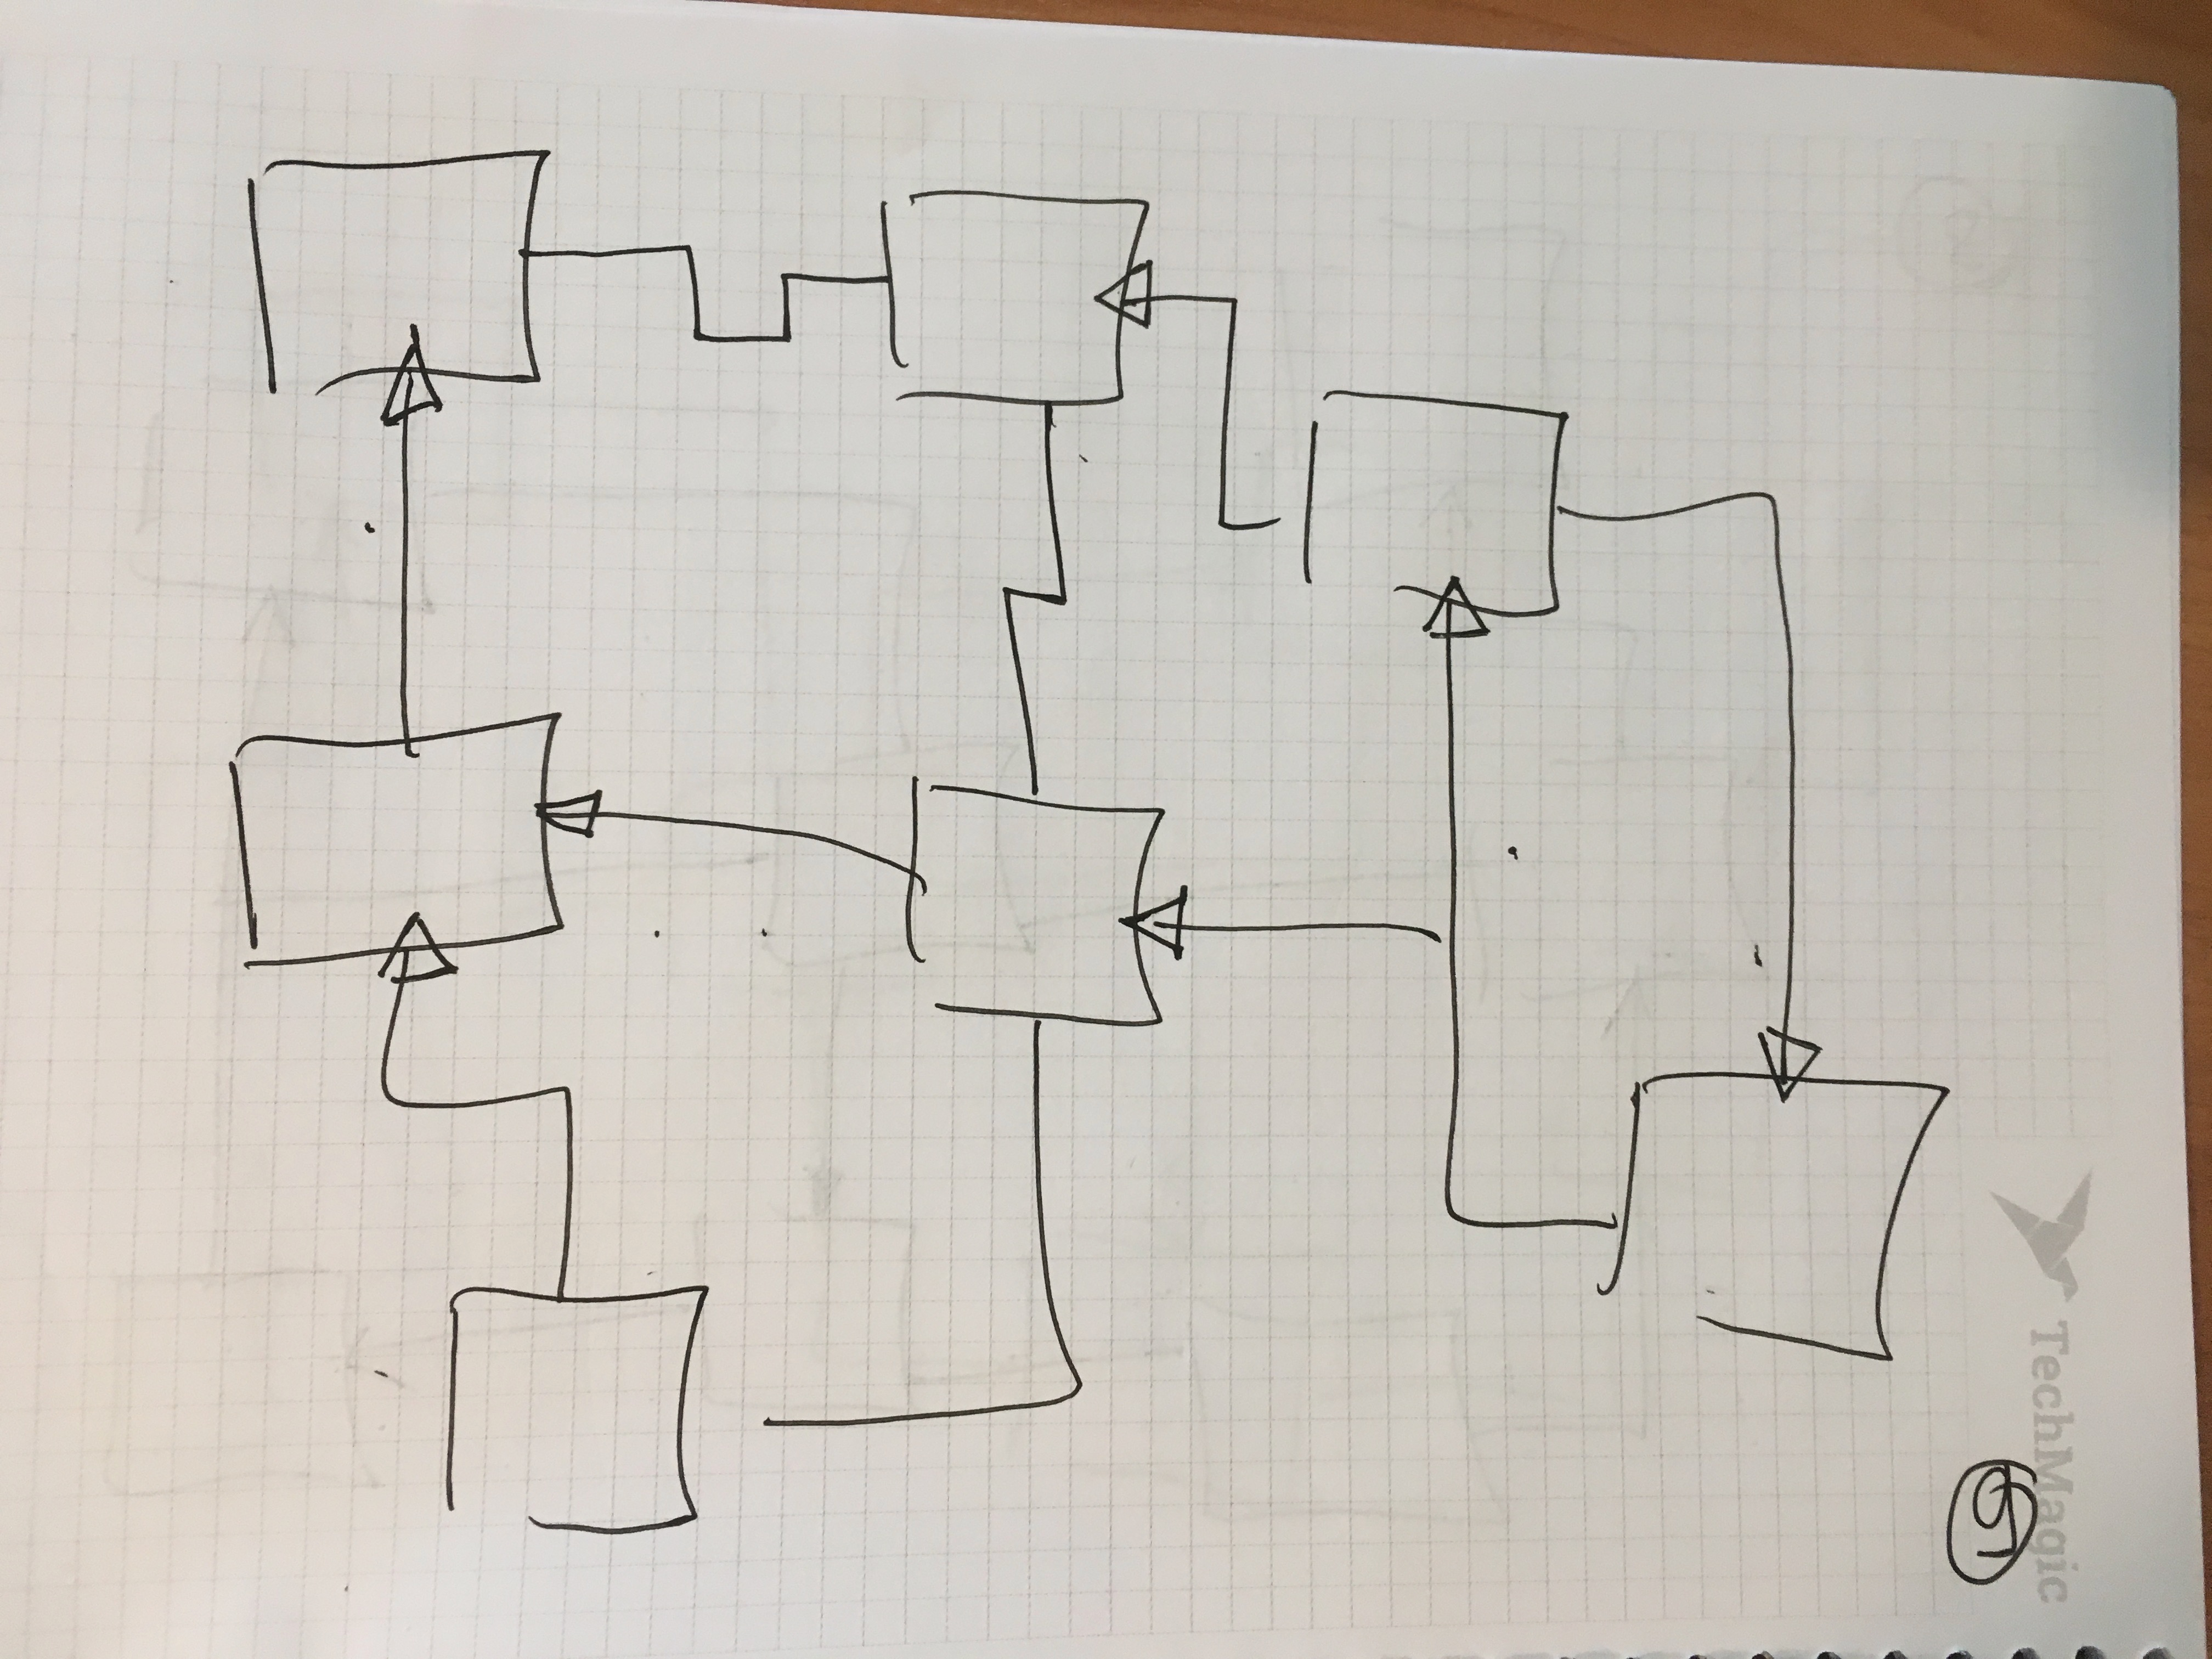arrow: (1747, 939, 1834, 1114), (1106, 877, 1258, 974), (369, 308, 453, 471), (1409, 563, 1494, 721), (1094, 265, 1216, 349), (523, 784, 655, 849), (380, 896, 442, 1026)
